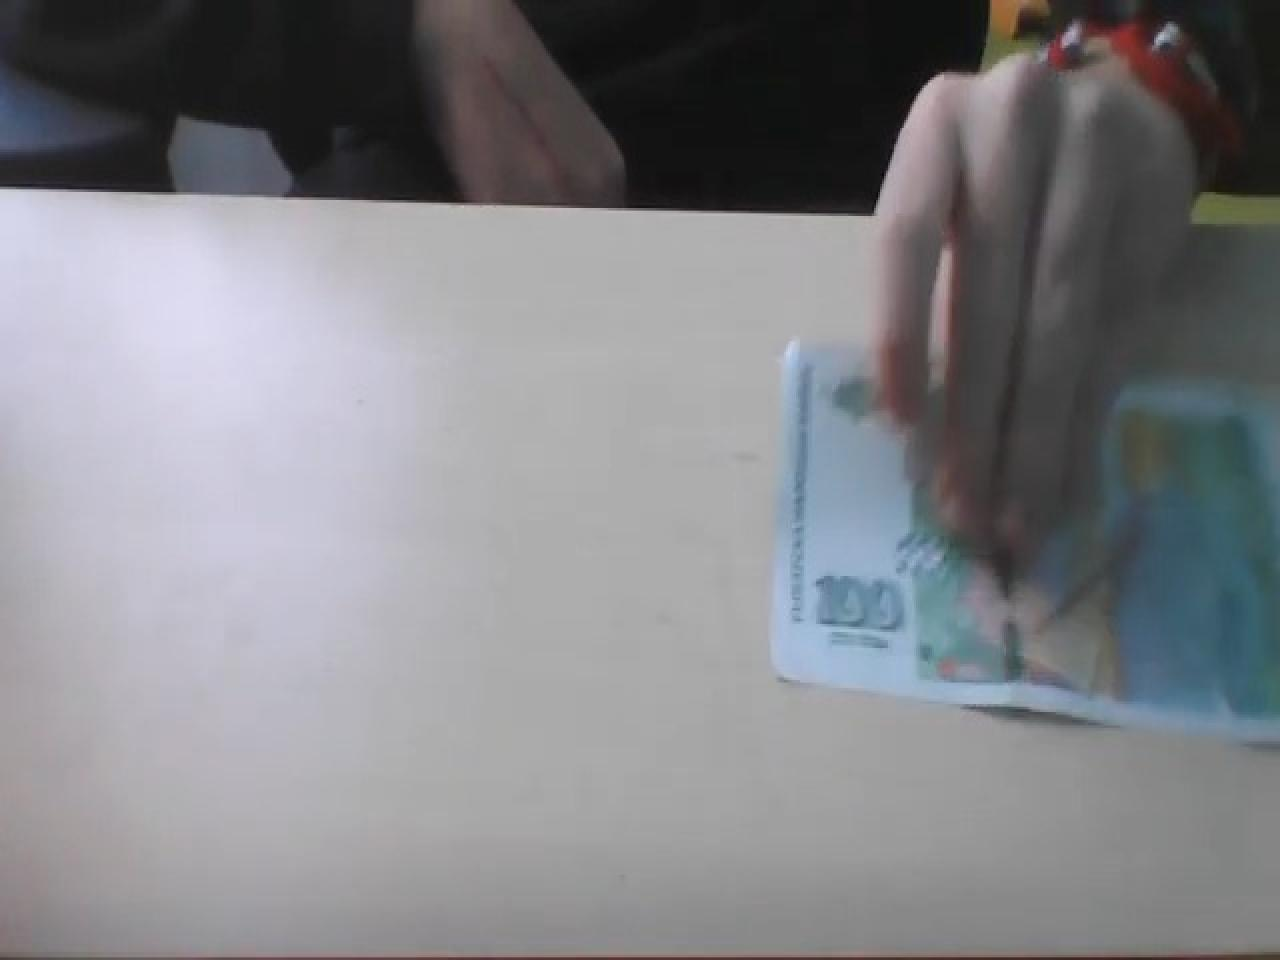100leva: (768, 331, 1276, 744), (810, 569, 904, 634)
